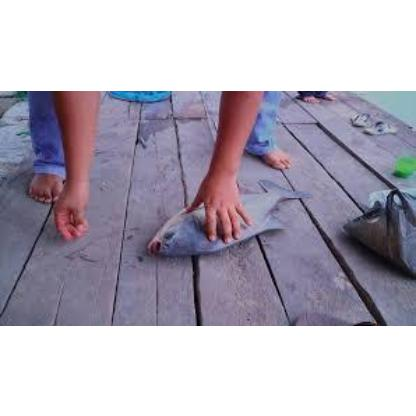ikan-pacu: (146, 179, 302, 259)
